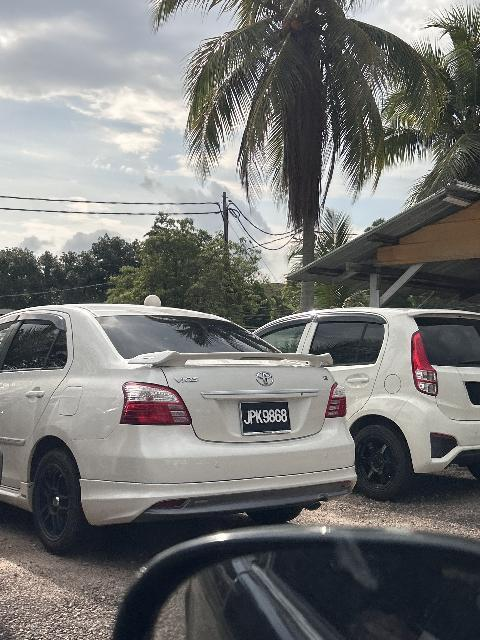JPK9868: (238, 400, 295, 439)
License_Plate: (238, 400, 295, 439)
car: (2, 306, 355, 547), (255, 311, 480, 499)
